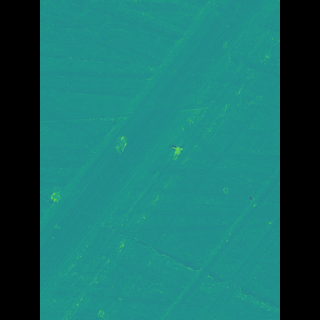Loch: (69, 0, 248, 303), (160, 175, 251, 319)
